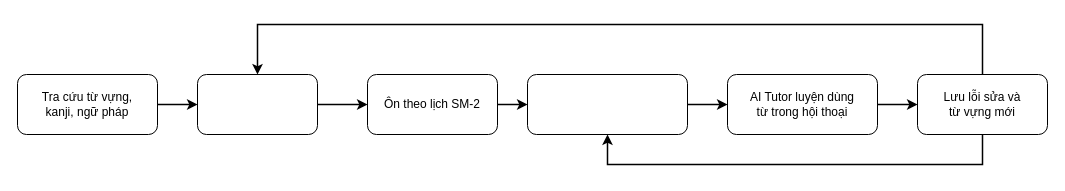
This 1065x191 diagram has some shape labels left out. The shapes that lost their labels are listed below. From the top down, each one's box as (x1, y1, x2, y2) in pixels, then its label:
(196, 74, 318, 134): Lưu vào bộ thẻ
(526, 74, 688, 134): Quiz/Story theo thẻ đến hạn và lỗi gần đây
